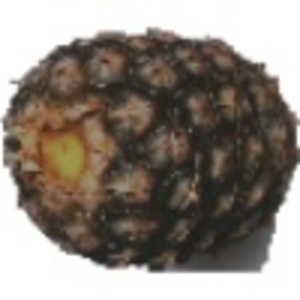abacaxi: (1, 17, 295, 266)
